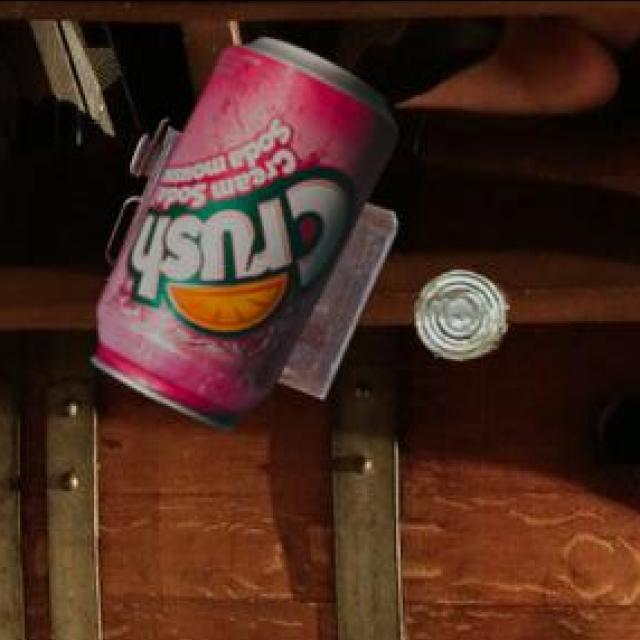logam: (95, 35, 402, 426), (126, 115, 402, 395), (417, 267, 514, 355)
